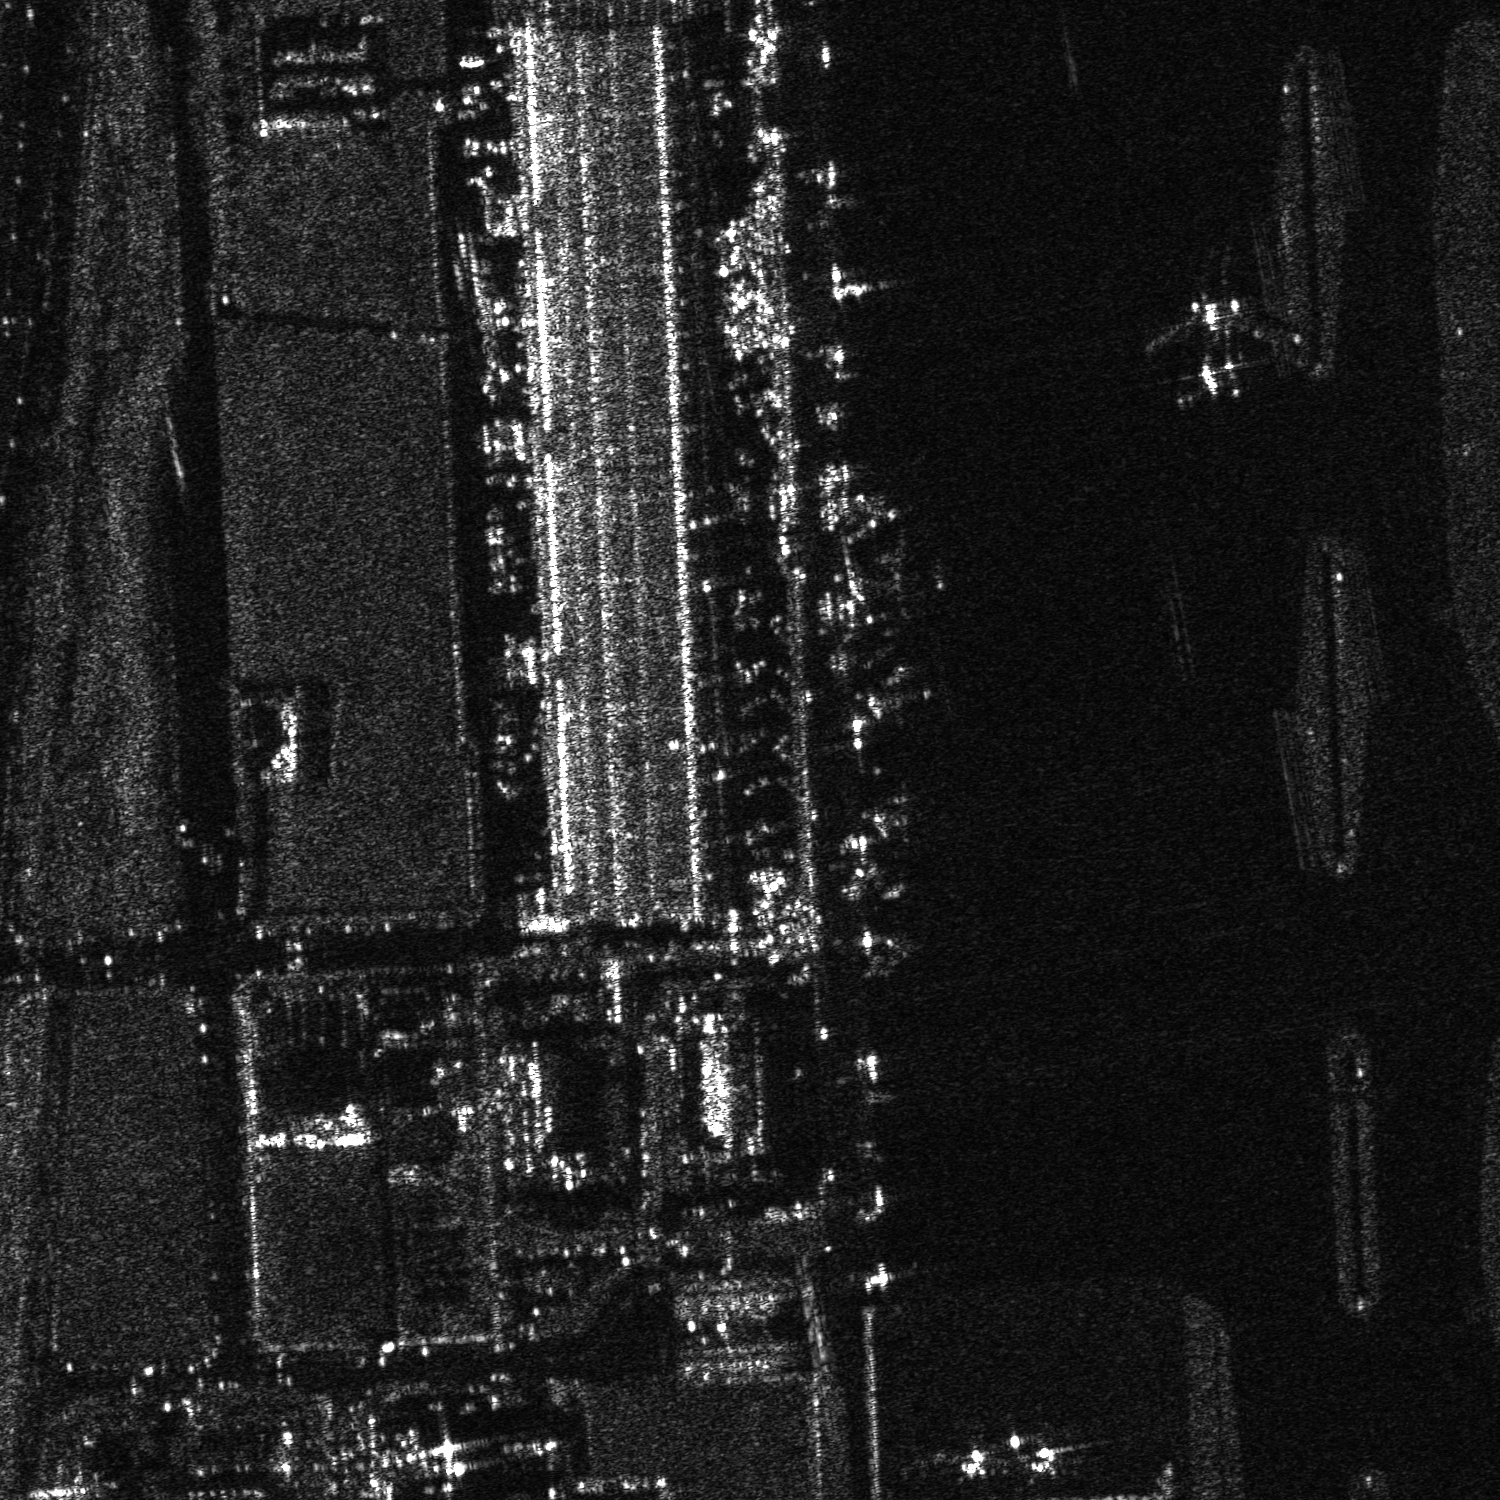A220: (845, 536, 952, 624)
ARJ21: (942, 1429, 1007, 1486)
other: (1137, 273, 1273, 408), (848, 655, 940, 723), (857, 777, 940, 843), (1012, 1431, 1082, 1484)
